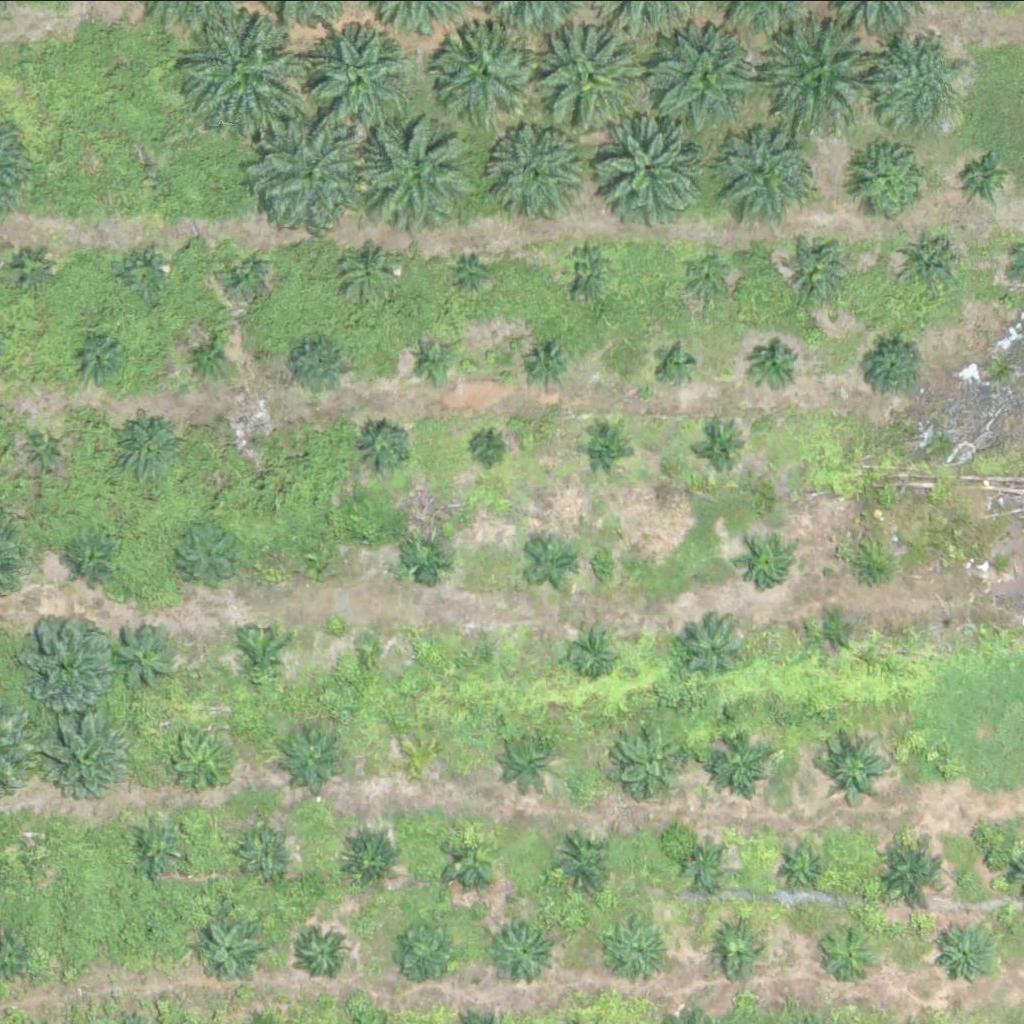Kelapa_Sawit: (182, 5, 308, 130), (768, 16, 882, 128), (652, 20, 766, 132), (535, 17, 649, 129), (255, 117, 368, 229), (361, 108, 474, 220), (305, 27, 406, 127), (433, 21, 534, 121), (14, 608, 115, 708), (599, 116, 699, 216), (725, 128, 825, 228), (848, 139, 936, 226), (495, 124, 583, 211), (47, 708, 135, 795), (875, 39, 963, 126), (868, 827, 956, 914), (819, 731, 895, 806), (389, 917, 465, 992), (170, 519, 245, 594), (817, 925, 880, 988), (610, 920, 673, 983), (934, 922, 997, 985), (900, 228, 963, 291), (683, 614, 746, 677), (859, 333, 922, 396), (282, 726, 345, 789), (337, 827, 400, 890), (127, 817, 190, 880), (287, 333, 350, 396), (494, 922, 557, 984), (790, 235, 853, 297), (554, 832, 617, 894), (711, 732, 774, 794), (621, 729, 683, 792), (499, 724, 562, 786), (196, 921, 259, 983), (118, 416, 181, 478), (109, 625, 172, 687), (172, 727, 235, 789), (952, 141, 1015, 203), (696, 424, 747, 474), (750, 340, 801, 390), (344, 247, 395, 297), (232, 631, 283, 681), (357, 424, 408, 474), (179, 331, 230, 381), (809, 606, 860, 656), (844, 544, 895, 594), (716, 926, 766, 976), (562, 242, 612, 292), (579, 422, 629, 472), (524, 534, 574, 584), (446, 834, 496, 884), (567, 627, 617, 677), (742, 539, 792, 589), (298, 926, 348, 976), (239, 832, 289, 882), (70, 333, 120, 383), (404, 532, 454, 582), (217, 247, 267, 297), (7, 244, 57, 294), (118, 248, 168, 298), (22, 428, 72, 478), (407, 336, 457, 386), (681, 253, 731, 303), (521, 337, 571, 387), (777, 846, 828, 895), (300, 536, 338, 574), (656, 345, 694, 383), (76, 538, 113, 576), (14, 830, 51, 868), (686, 848, 724, 885), (233, 426, 258, 451), (462, 260, 487, 285), (476, 437, 501, 462), (469, 638, 494, 663), (353, 638, 378, 663), (407, 743, 432, 768), (987, 554, 1012, 579), (934, 753, 959, 778), (144, 916, 169, 941)
